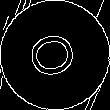O_E: (25, 28, 85, 82)
